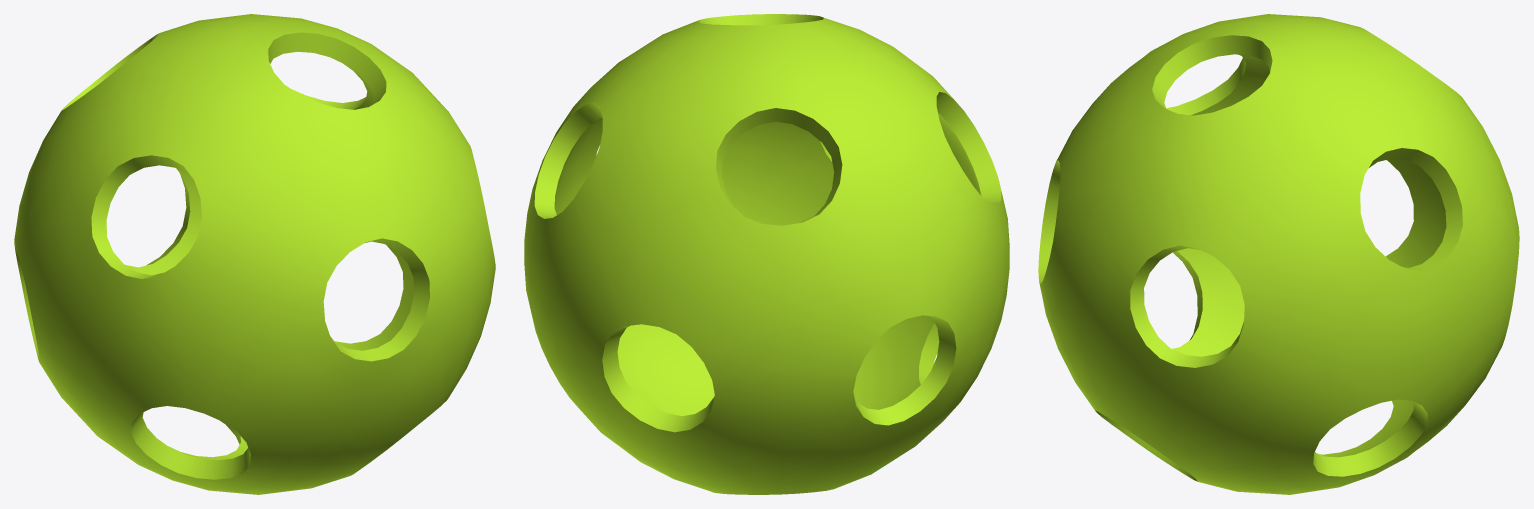
File: Pickleball_Green.fbx
The picture shows the model from 3 angles, left to right: view 1: azimuth 30°, elevation 25°; view 2: azimuth 150°, elevation 25°; view 3: azimuth 270°, elevation 25°; orthographic projection.
Parts seen in each view (by area): view 1: Pickleball_Green; view 2: Pickleball_Green; view 3: Pickleball_Green.
Part boxes in pixels (bbox=[...]): Pickleball_Green: bbox=[14, 14, 495, 494]; Pickleball_Green: bbox=[524, 14, 1009, 494]; Pickleball_Green: bbox=[1038, 14, 1519, 494].
Size of the model in its own units: 92.7 by 92.6 by 92.6.
